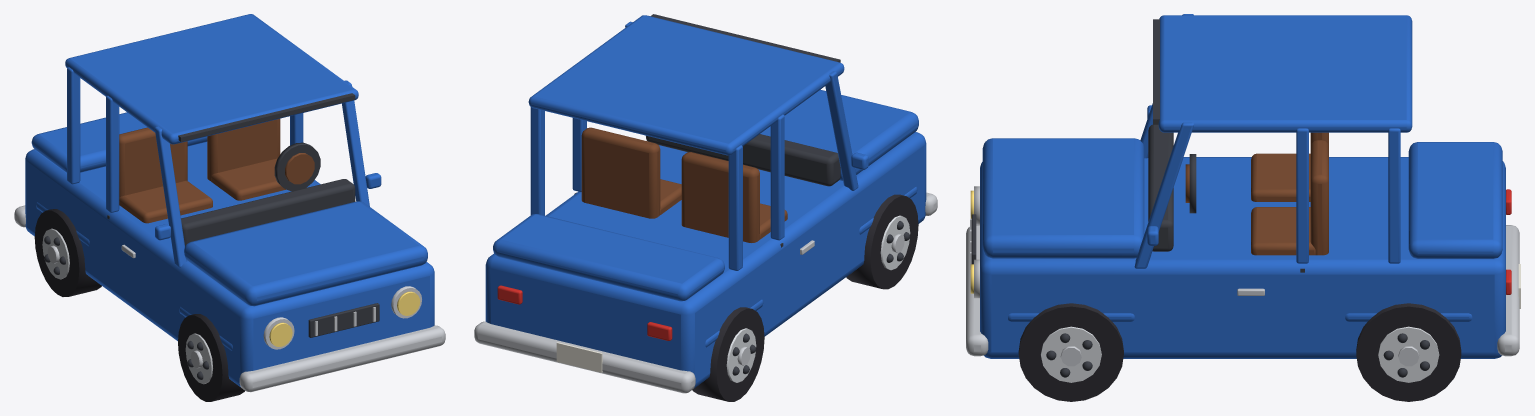
Rendered from car_blue.glb.
3 renders of one model, left to right at view 1: azimuth 30°, elevation 25°; view 2: azimuth 150°, elevation 25°; view 3: azimuth 270°, elevation 25°, orthographic. The views are drawn at different scales.
Parts seen in each view (by area): view 1: body, wheelFR, wheelBR; view 2: body, wheelFR, wheelBR; view 3: body, wheelFL, wheelBL.
Part boxes in pixels (box(x1,y1,x2,y2)): body: box(14, 14, 445, 392); wheelFR: box(178, 314, 244, 401); wheelBR: box(34, 209, 101, 296); body: box(474, 14, 937, 393); wheelFR: box(846, 194, 918, 289); wheelBR: box(692, 307, 764, 401); body: box(966, 14, 1520, 358); wheelFL: box(1018, 303, 1123, 401); wheelBL: box(1356, 303, 1461, 401).
Size of the model in its own units: 2.66 by 2.66 by 4.85.
